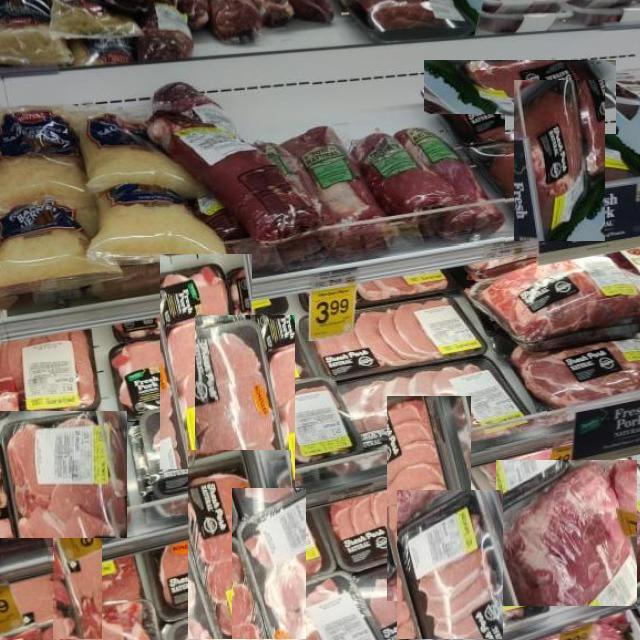Meat: (155, 79, 311, 245), (195, 316, 295, 534), (496, 461, 637, 606), (160, 254, 252, 469), (187, 451, 291, 640), (363, 115, 505, 245), (300, 290, 507, 376), (337, 366, 547, 449), (386, 396, 471, 601), (480, 249, 640, 353), (1, 410, 127, 538), (397, 490, 503, 640), (514, 81, 605, 241), (423, 60, 616, 134), (281, 116, 388, 244), (232, 488, 306, 640), (52, 538, 102, 640)
